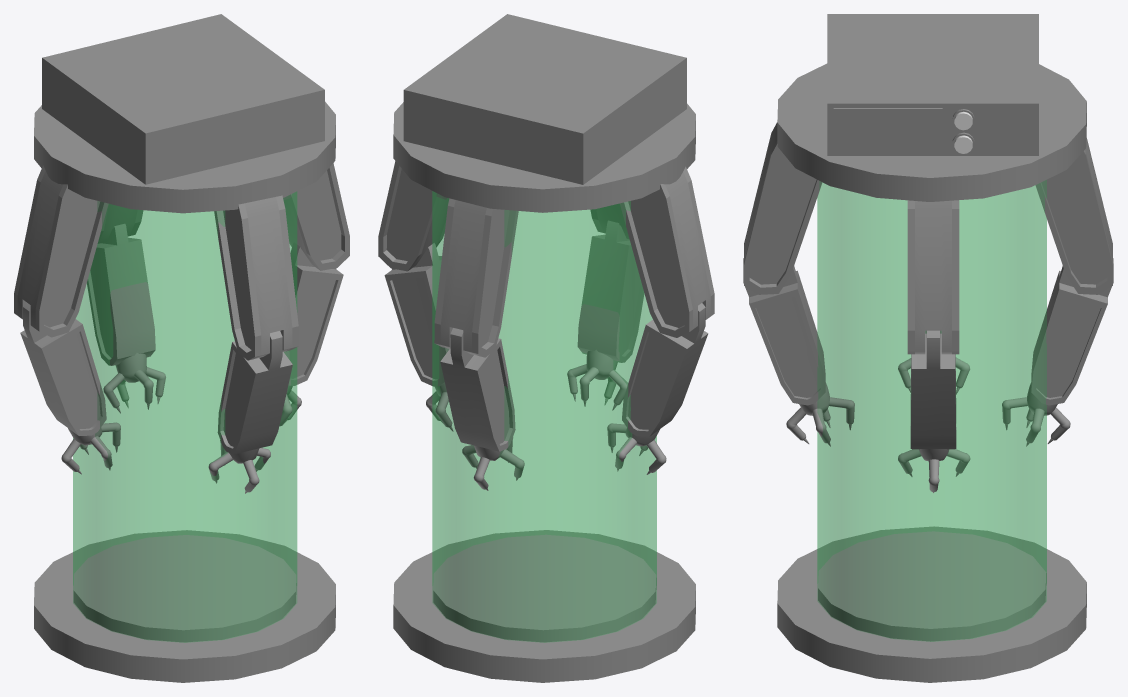
Rendered from RepairBot.fbx.
3 views of the same model, side by side, from view 1: azimuth 30°, elevation 25°; view 2: azimuth 150°, elevation 25°; view 3: azimuth 270°, elevation 25° (orthographic). The views are drawn at different scales.
Visible parts, largest first — view 1: Cylinder057, Cylinder055, Box021, Cylinder056, Box001, Box011, Box017, Box012, Box002, Box006, Box007, Box019 (+3 smaller); view 2: Cylinder057, Cylinder055, Box021, Cylinder056, Box011, Box016, Box002, Box012, Box017, Box006, Box007, Box004 (+4 smaller); view 3: Cylinder057, Cylinder055, Box021, Cylinder056, Box006, Box001, Box016, Box002, Box017, Box022, Box007, Box004 (+3 smaller).
Boxes of the visible parts, x1=… form: Cylinder057: x1=73, y1=191, x2=297, y2=642; Cylinder055: x1=34, y1=530, x2=335, y2=682; Box021: x1=42, y1=14, x2=324, y2=184; Cylinder056: x1=34, y1=101, x2=335, y2=213; Box001: x1=214, y1=195, x2=298, y2=360; Box011: x1=14, y1=165, x2=108, y2=337; Box017: x1=87, y1=224, x2=155, y2=365; Box012: x1=20, y1=302, x2=106, y2=435; Box002: x1=217, y1=331, x2=292, y2=454; Box006: x1=283, y1=163, x2=349, y2=270; Box007: x1=284, y1=242, x2=343, y2=385; Box019: x1=103, y1=353, x2=165, y2=413; Cylinder057: x1=432, y1=191, x2=656, y2=642; Cylinder055: x1=393, y1=530, x2=695, y2=682; Box021: x1=403, y1=14, x2=686, y2=184; Cylinder056: x1=393, y1=102, x2=695, y2=212; Box011: x1=619, y1=166, x2=714, y2=337; Box016: x1=434, y1=198, x2=518, y2=357; Box002: x1=577, y1=220, x2=644, y2=362; Box012: x1=622, y1=303, x2=708, y2=436; Box017: x1=440, y1=328, x2=515, y2=451; Box006: x1=378, y1=161, x2=448, y2=271; Box007: x1=384, y1=243, x2=449, y2=386; Box004: x1=567, y1=349, x2=628, y2=410; Cylinder057: x1=817, y1=180, x2=1046, y2=641; Cylinder055: x1=777, y1=526, x2=1086, y2=682; Box021: x1=827, y1=14, x2=1038, y2=155; Cylinder056: x1=777, y1=63, x2=1086, y2=201; Box006: x1=907, y1=200, x2=959, y2=354; Box001: x1=744, y1=122, x2=822, y2=294; Box016: x1=1035, y1=137, x2=1112, y2=294; Box002: x1=743, y1=258, x2=825, y2=405; Box017: x1=1031, y1=258, x2=1113, y2=405; Box022: x1=833, y1=108, x2=942, y2=153; Box007: x1=910, y1=330, x2=956, y2=449; Box004: x1=786, y1=382, x2=854, y2=446.
Bounding box in the file's own units: 68.3 × 114 × 68.6.
